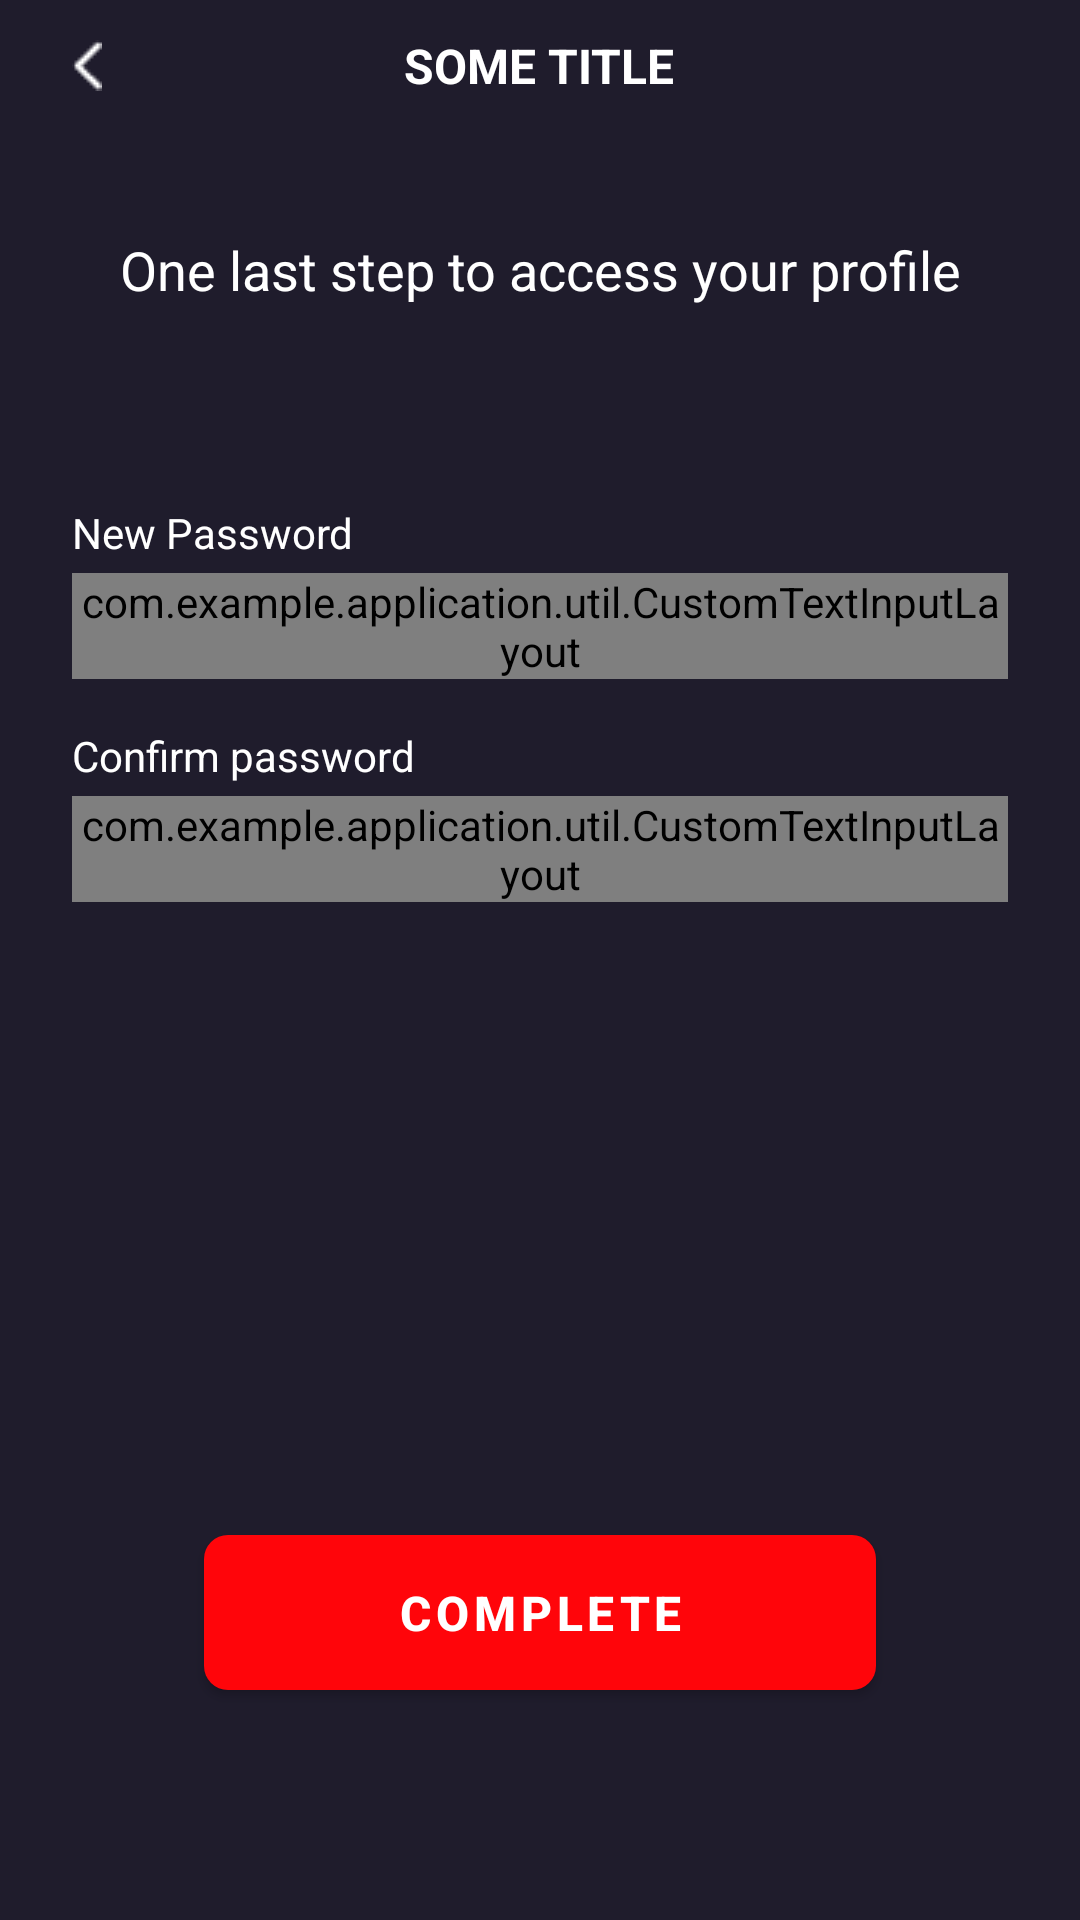

Icons on this 1080 × 1920 Android screen, each with its box as (x1,y1,x2,y2):
back: (74,42,102,91)
